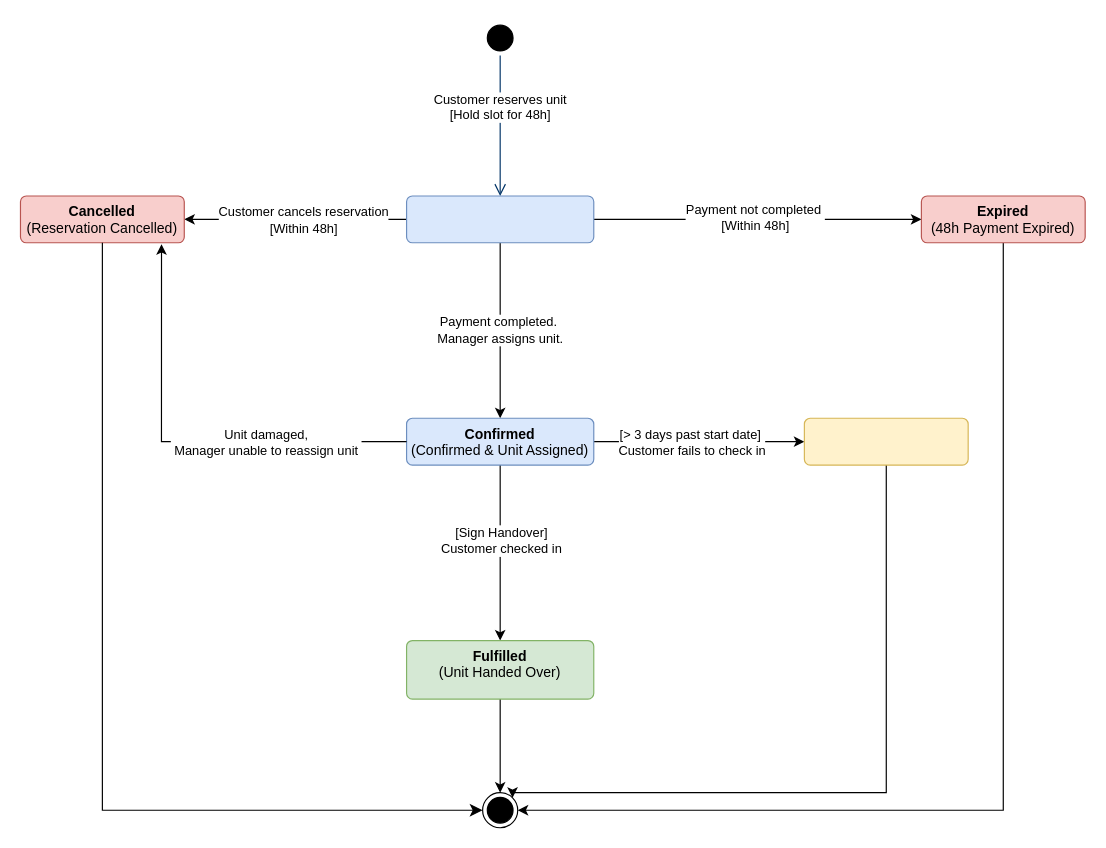
Image size: 1106x848. Some labels were removed from this diagram. Here are the shapes that lost their labels. From the top down, the centre of each, then its label:
At [499,219]: "Pending Payment".
At [885,441]: "No-show (Check-in Defaulted)".
